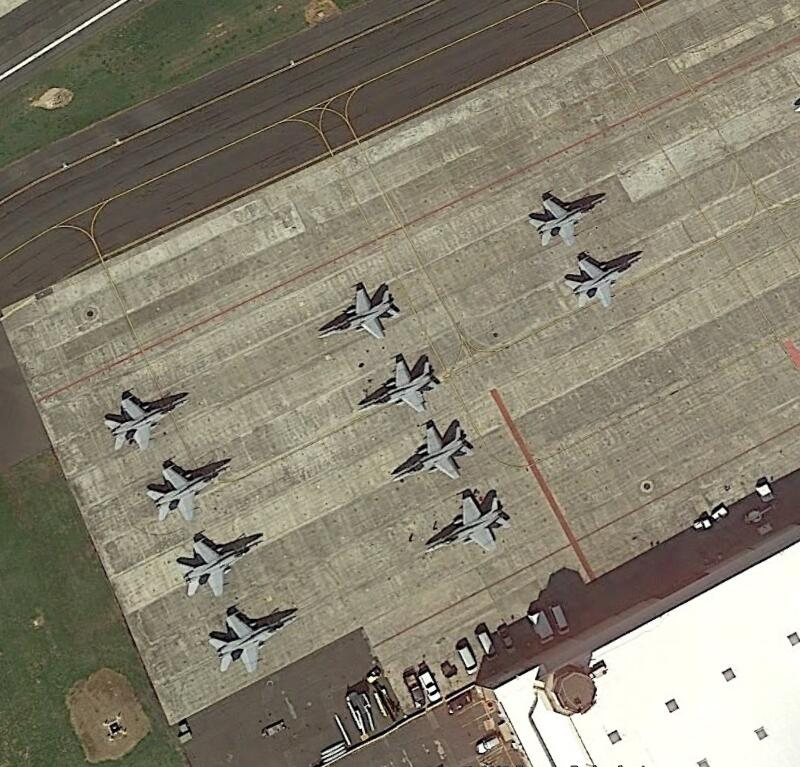A16: (172, 532, 268, 597), (206, 612, 300, 675), (422, 494, 512, 553), (145, 462, 235, 520), (102, 392, 192, 448), (317, 283, 402, 342), (525, 190, 608, 246), (560, 254, 642, 310), (391, 424, 473, 480), (357, 357, 440, 412)
